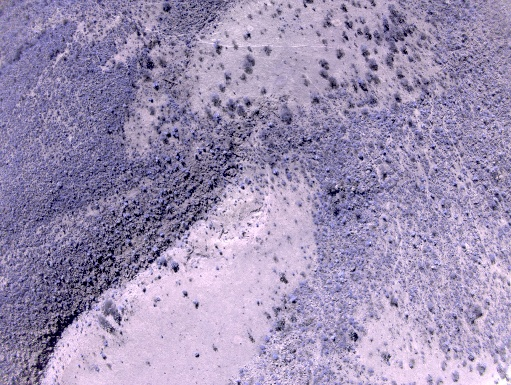agave: (151, 81, 161, 92), (124, 211, 133, 221), (172, 126, 178, 139), (213, 114, 221, 123), (163, 129, 171, 137), (164, 157, 173, 164), (124, 239, 133, 246), (356, 152, 364, 159), (285, 173, 293, 180), (323, 168, 333, 173), (366, 240, 373, 247), (175, 152, 181, 160), (141, 185, 147, 193), (388, 236, 394, 244), (346, 175, 352, 183), (273, 170, 280, 176), (190, 129, 196, 136), (389, 142, 396, 148), (355, 175, 359, 184), (342, 218, 347, 225), (382, 215, 387, 222), (431, 143, 436, 150), (422, 235, 427, 242), (181, 158, 185, 166), (421, 177, 426, 183), (381, 150, 386, 155), (149, 97, 154, 102), (121, 166, 126, 171), (399, 143, 404, 148), (421, 184, 425, 190), (410, 233, 416, 237)
